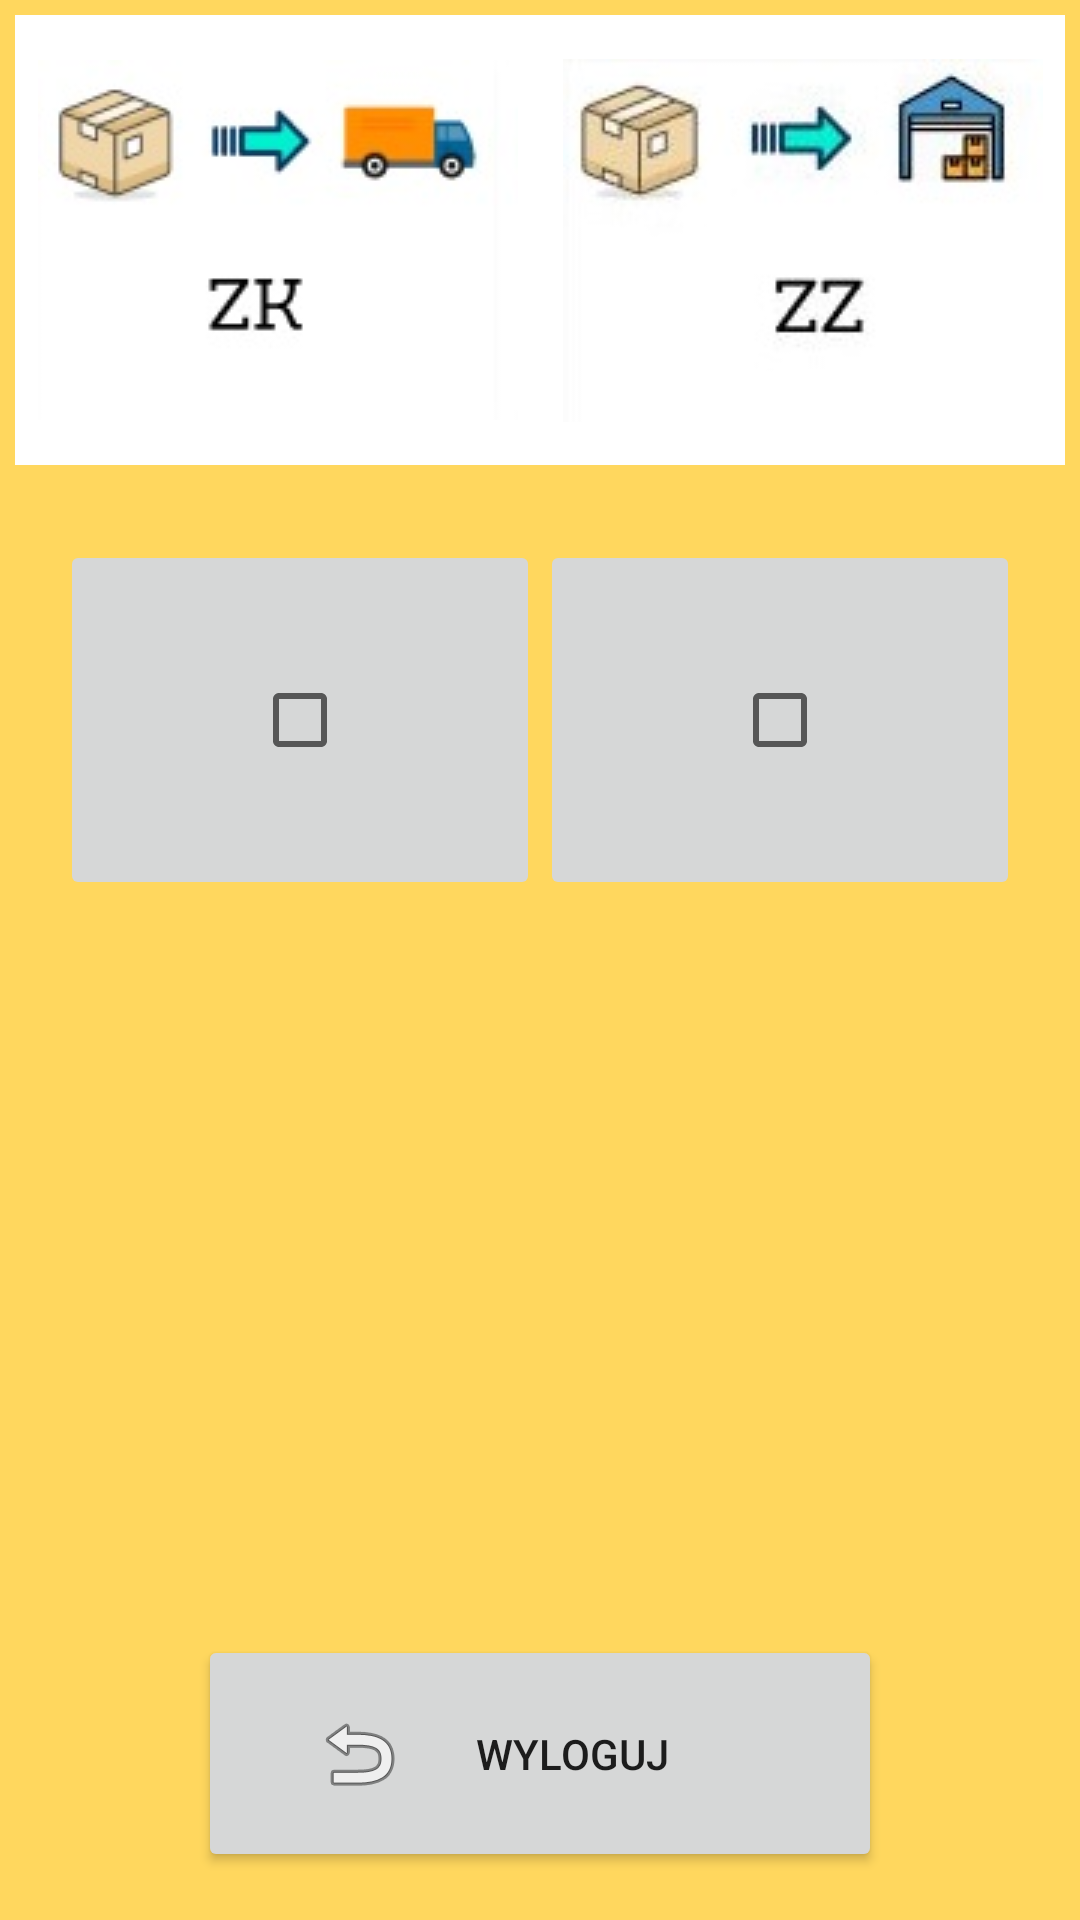

Named icons in this screenshot (1080px×1920px) and their centers, point (x, y):
revert: point (360, 1754)
